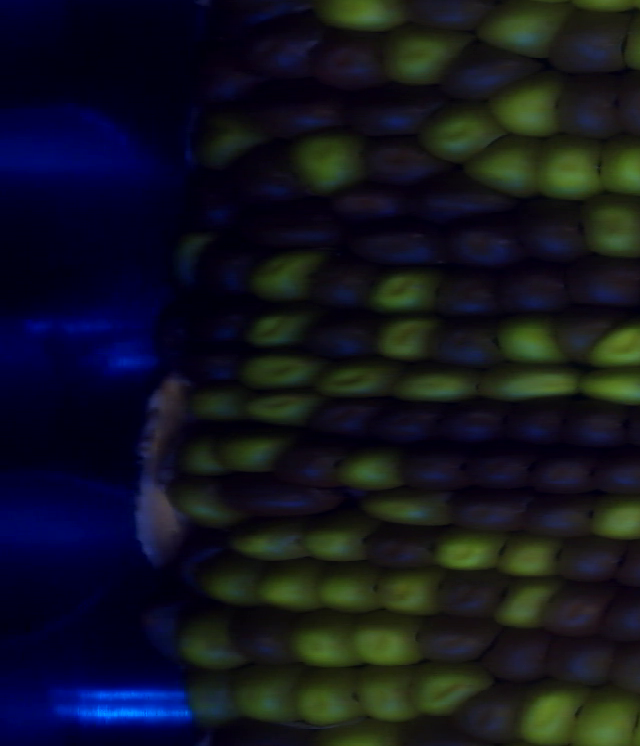fluorescent: (379, 18, 480, 90), (279, 127, 373, 204), (410, 94, 501, 168), (528, 128, 612, 208), (504, 673, 596, 746), (483, 65, 571, 141), (476, 1, 578, 66), (461, 131, 551, 203), (185, 102, 266, 176), (400, 658, 494, 721), (160, 470, 248, 537), (287, 508, 377, 573), (221, 659, 304, 728), (239, 244, 331, 306), (288, 661, 368, 732), (168, 608, 249, 677), (217, 514, 320, 568), (284, 606, 363, 675), (488, 307, 571, 372), (206, 421, 300, 478), (353, 484, 461, 532), (473, 359, 585, 405), (346, 659, 419, 728), (304, 355, 405, 404), (388, 358, 483, 410), (194, 551, 271, 615), (312, 557, 390, 620), (363, 265, 448, 322), (175, 664, 248, 730), (577, 188, 640, 264), (344, 610, 425, 668), (569, 681, 640, 746), (484, 578, 566, 634), (426, 524, 512, 577), (369, 565, 450, 620), (327, 443, 409, 496), (372, 311, 448, 367), (250, 559, 327, 614), (240, 303, 323, 354), (232, 349, 326, 394), (493, 529, 568, 584), (163, 428, 235, 484), (306, 1, 415, 36), (239, 387, 320, 432), (570, 359, 640, 411), (581, 485, 640, 546), (580, 314, 640, 373), (595, 129, 640, 203), (184, 377, 251, 422), (168, 228, 214, 290)
nonfluorescent: (434, 34, 544, 107), (396, 166, 519, 230), (203, 467, 342, 522), (542, 1, 636, 81), (336, 209, 446, 276), (344, 80, 452, 148), (353, 129, 461, 195), (229, 197, 352, 254), (184, 37, 265, 122), (511, 189, 597, 268), (224, 139, 312, 214), (301, 26, 397, 94), (548, 72, 635, 147), (246, 7, 328, 86), (313, 173, 420, 231), (189, 234, 270, 310), (219, 601, 303, 673), (440, 211, 530, 275), (163, 164, 250, 230), (543, 300, 630, 365), (299, 388, 393, 447), (254, 91, 355, 145), (490, 260, 584, 318), (448, 681, 528, 746), (442, 485, 538, 539), (558, 390, 636, 456), (497, 389, 577, 453), (413, 611, 502, 668), (428, 266, 511, 327), (559, 248, 640, 309), (426, 313, 511, 371), (550, 528, 629, 590), (432, 564, 515, 623), (541, 631, 624, 690), (295, 309, 385, 362), (479, 622, 554, 685), (307, 253, 388, 311), (147, 296, 208, 373), (537, 580, 614, 641), (161, 536, 235, 599), (433, 393, 511, 452), (393, 442, 474, 498), (271, 435, 347, 494), (356, 521, 437, 575), (518, 493, 599, 544), (376, 395, 448, 452), (462, 443, 540, 495), (522, 445, 600, 496), (197, 295, 266, 352), (396, 1, 492, 38), (585, 441, 640, 501), (183, 340, 252, 384), (608, 63, 640, 145), (601, 585, 640, 647), (606, 637, 640, 701), (608, 533, 640, 595)
